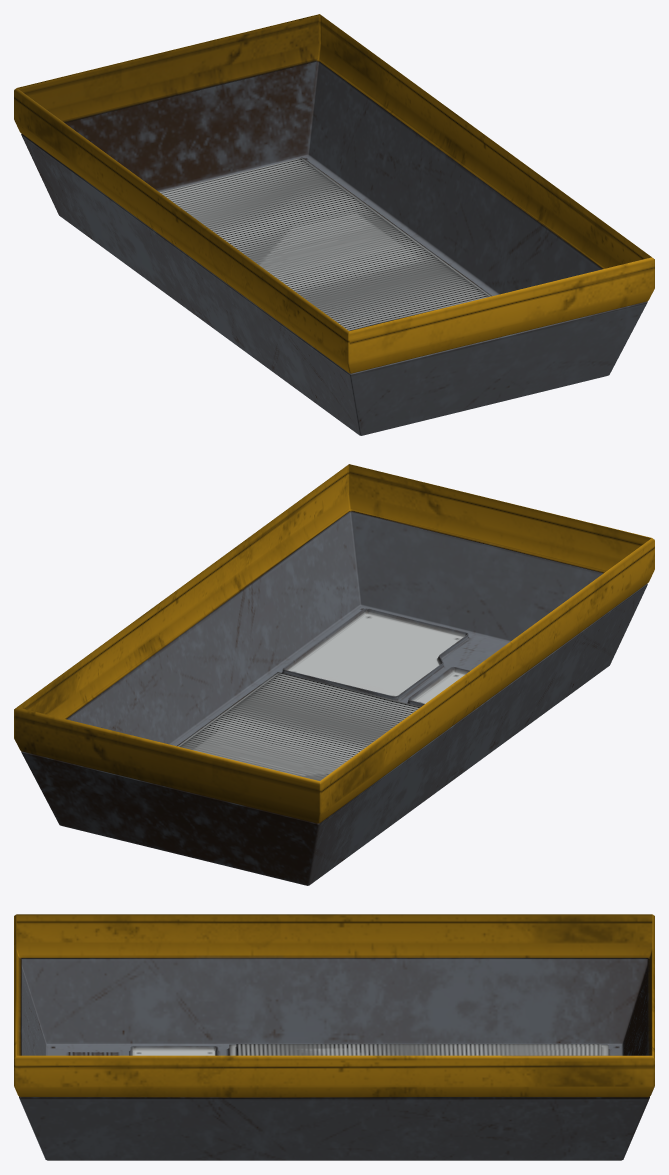
The model's file is SM_Fan02.fbx.
The picture shows the model from 3 angles, top to bottom: view 1: azimuth 30°, elevation 25°; view 2: azimuth 150°, elevation 25°; view 3: azimuth 270°, elevation 25°; orthographic projection. The views are drawn at different scales.
Parts seen in each view (by area): view 1: SM_Fan02_LOD0; view 2: SM_Fan02_LOD0; view 3: SM_Fan02_LOD0.
Part boxes in pixels (x1,y1,x2,y2): SM_Fan02_LOD0: (14,14,654,435); SM_Fan02_LOD0: (14,464,654,885); SM_Fan02_LOD0: (14,914,654,1160).
Size of the model in its own units: 152 by 287 by 58.3.
Materials: 1 (1 with a texture image).
